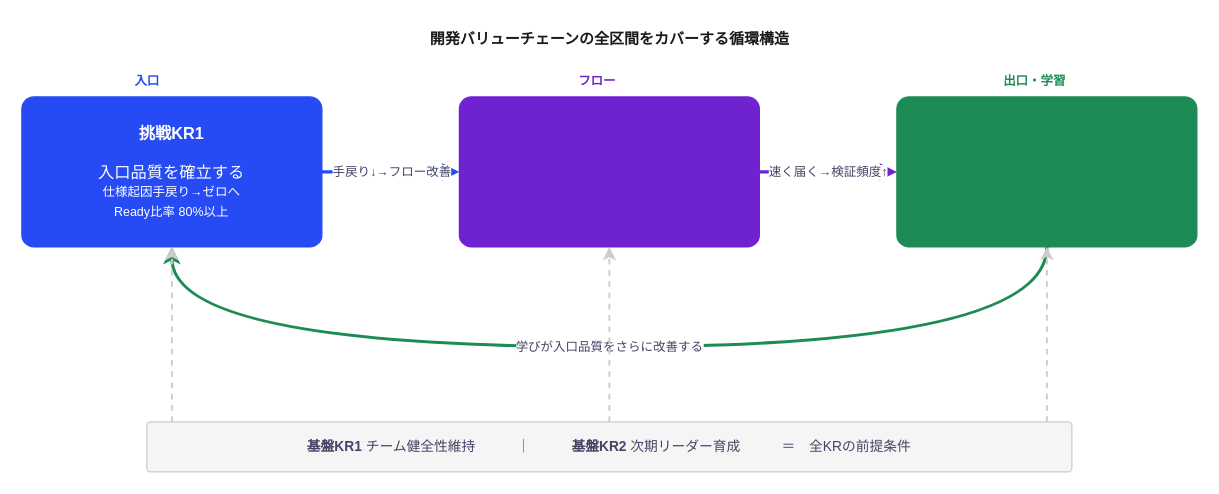
The diagram is 1219 pixels wide and 494 high, and some of its shapes have lost their labels. The centre of each missing label's shape, as x and y in pixels:
挑戦KR2 フロー効率を最大化する サイクルタイム 50%短縮 ゴール達成率 80%以上: point (608, 171)
挑戦KR3 学習サイクルを定着させる 価値検証→PdMフィードバック →次の投資判断精度↑: point (1046, 171)
